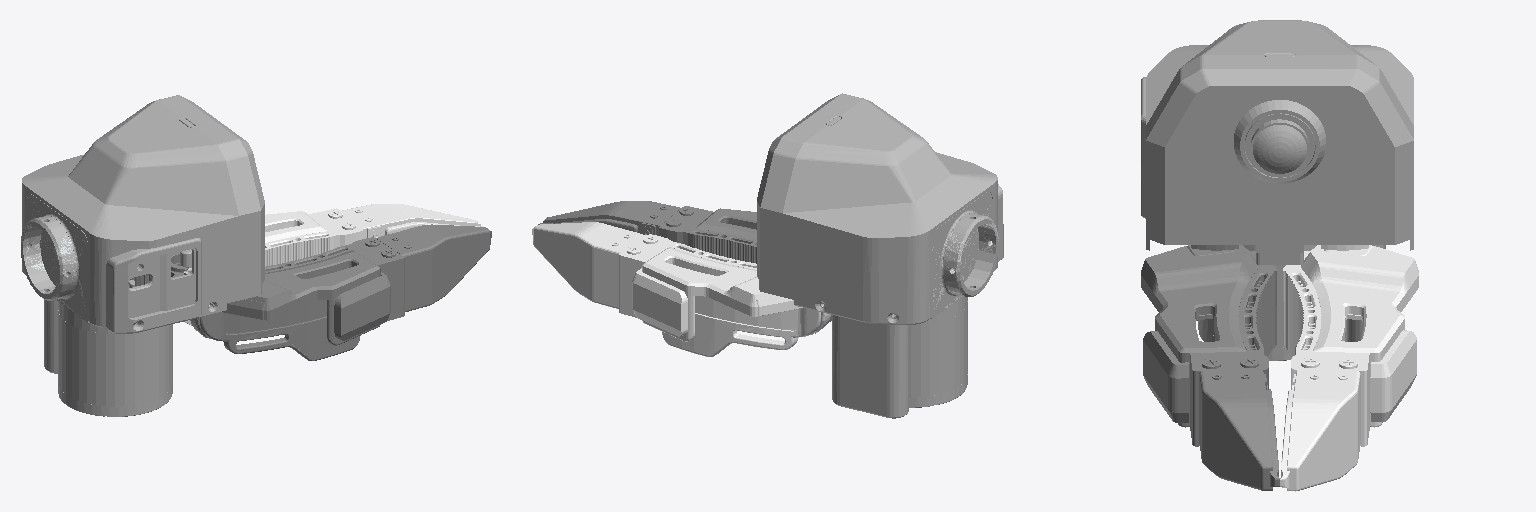
robot.urdf — taccap_g1_slave:
<robot name="taccap_g1_slave">
  <!-- Generated by scripts/generate_models.py; edit Xacro/config sources instead. -->
  <material name="taccap_base_mat">
    <color rgba="0.75294 0.75294 0.75294 1" />
  </material>
  <material name="taccap_left_mat">
    <color rgba="1 1 1 1" />
  </material>
  <material name="taccap_right_mat">
    <color rgba="0.60392 0.60392 0.60392 1" />
  </material>
  <material name="taccap_cover_mat">
    <color rgba="0.89804 0.91765 0.92941 1" />
  </material>
  <link name="taccap_g1_slave">
    <inertial>
      <origin rpy="0 0 0" xyz="0.002077 0.005327 0.009595" />
      <mass value="0.415" />
      <inertia ixx="0.000680" ixy="0" ixz="0" iyy="0.000748" iyz="0" izz="0.000573" />
    </inertial>
    <visual name="base_visual">
      <geometry>
        <mesh filename="../meshes/base_link.STL" />
      </geometry>
      <material name="taccap_base_mat" />
    </visual>
    <collision name="base_collision">
      <geometry>
        <mesh filename="../meshes/base_link.STL" />
      </geometry>
    </collision>
  </link>
  <link name="grip_left">
    <inertial>
      <origin rpy="0 0 0" xyz="0.074921 -0.00669 -0.020693" />
      <mass value="0.36678" />
      <inertia ixx="3.3606e-05" ixy="-6.6715e-06" ixz="2.4362e-06" iyy="0.00015466" iyz="-2.9254e-07" izz="0.00015235" />
    </inertial>
    <visual name="left_finger_visual">
      <geometry>
        <mesh filename="../meshes/grip_left.STL" />
      </geometry>
      <material name="taccap_left_mat" />
    </visual>
    <collision name="left_finger_collision">
      <geometry>
        <mesh filename="../meshes/grip_left.STL" />
      </geometry>
    </collision>
  </link>
  <joint name="grip_left_joint" type="revolute">
    <parent link="taccap_g1_slave" />
    <child link="grip_left" />
    <origin rpy="0 0 0" xyz="0.0144769712 0.0260269106 0.0077163282" />
    <axis xyz="0 0 -1" />
    <limit effort="4" lower="-0.5047492196767601" upper="0" velocity="1" />
    <dynamics damping="0.08" friction="0.01" />
    <mimic joint="grip_right_joint" multiplier="-1" offset="0" />
  </joint>
  <link name="grip_right">
    <inertial>
      <origin rpy="0 0 0" xyz="0.07491 0.0066814 -0.020629" />
      <mass value="0.36678" />
      <inertia ixx="3.3592e-05" ixy="6.6629e-06" ixz="2.4418e-06" iyy="0.0001547" iyz="2.9549e-07" izz="0.00015238" />
    </inertial>
    <visual name="right_finger_visual">
      <geometry>
        <mesh filename="../meshes/grip_right.STL" />
      </geometry>
      <material name="taccap_right_mat" />
    </visual>
    <collision name="right_finger_collision">
      <geometry>
        <mesh filename="../meshes/grip_right.STL" />
      </geometry>
    </collision>
  </link>
  <joint name="grip_right_joint" type="revolute">
    <parent link="taccap_g1_slave" />
    <child link="grip_right" />
    <origin rpy="0 0 0" xyz="0.0144769712 -0.0138730894 0.0077163282" />
    <axis xyz="0 0 -1" />
    <limit effort="4" lower="0" upper="0.5047492196767601" velocity="1" />
    <dynamics damping="0.08" friction="0.01" />
  </joint>
  <link name="visual_link">
    <inertial>
      <origin rpy="0 0 0" xyz="-0.17821 -0.00049167 0.022257" />
      <mass value="0.068231" />
      <inertia ixx="4.1918e-05" ixy="-3.304e-07" ixz="7.6626e-06" iyy="3.8396e-05" iyz="-6.1656e-08" izz="6.5602e-05" />
    </inertial>
    <visual name="cover_visual">
      <geometry>
        <mesh filename="../meshes/viusal_link.STL" />
      </geometry>
      <material name="taccap_cover_mat" />
    </visual>
  </link>
  <joint name="base_to_cover" type="fixed">
    <parent link="taccap_g1_slave" />
    <child link="visual_link" />
    <origin rpy="0 0 0" xyz="0.1667969712 0.0060769106 -0.0140336718" />
  </joint>
  <link name="eef" />
  <joint name="base_to_eef" type="fixed">
    <parent link="taccap_g1_slave" />
    <child link="eef" />
    <origin rpy="0 1.5707963267948966 0" xyz="0.145 0.0060769106 -0.017" />
  </joint>
</robot>

--- Facts derived from the render (not from the file) ---
The picture shows the robot from 3 angles, left to right: view 1: azimuth 30°, elevation 25°; view 2: azimuth 150°, elevation 25°; view 3: azimuth 270°, elevation 25°; orthographic projection.
Model taccap_g1_slave with 5 links and 4 joints (2 revolute, 2 fixed), rooted at taccap_g1_slave, posed every joint at zero.
Links seen in each view (by area): view 1: taccap_g1_slave, grip_right, grip_left; view 2: taccap_g1_slave, grip_left, grip_right; view 3: taccap_g1_slave, grip_left, grip_right.
Link boxes in pixels (x1,y1,x2,y2): taccap_g1_slave: (21, 95, 264, 416); grip_right: (135, 224, 491, 360); grip_left: (184, 204, 482, 325); taccap_g1_slave: (757, 93, 1003, 418); grip_left: (532, 222, 830, 356); grip_right: (538, 201, 831, 322); taccap_g1_slave: (1141, 20, 1413, 360); grip_left: (1280, 245, 1418, 491); grip_right: (1141, 245, 1279, 490).
Size in the robot's own frame: 0.2089 by 0.0872 by 0.1112 metres.
Meshes: 4 distinct files referenced, 4 mesh visuals loaded (4 binary STL).
